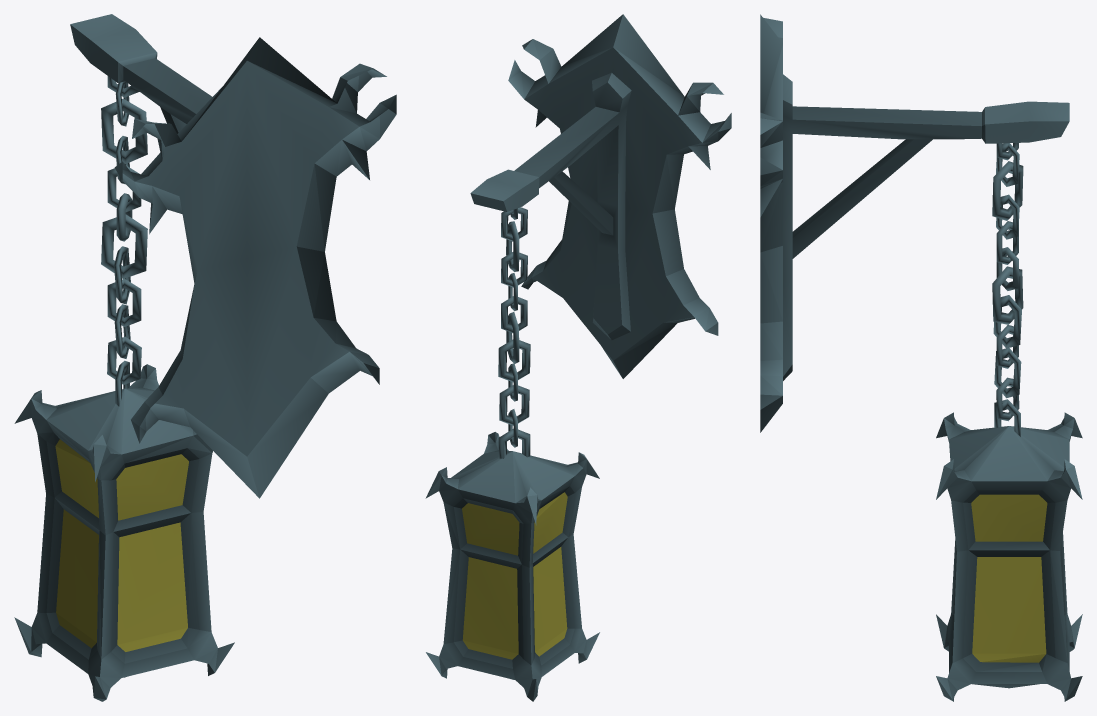
Rendered from obj_lamp_LOW.FBX.
The picture shows the model from 3 angles, left to right: view 1: azimuth 30°, elevation 25°; view 2: azimuth 150°, elevation 25°; view 3: azimuth 270°, elevation 25°; orthographic projection. The views are drawn at different scales.
Parts seen in each view (by area): view 1: obj_lamp_LOW; view 2: obj_lamp_LOW; view 3: obj_lamp_LOW.
Part boxes in pixels (x1,y1,x2,y2): obj_lamp_LOW: [14, 14, 396, 701]; obj_lamp_LOW: [425, 14, 731, 701]; obj_lamp_LOW: [760, 14, 1082, 701].
Size of the model in its own units: 1.22 by 3.15 by 1.37.
